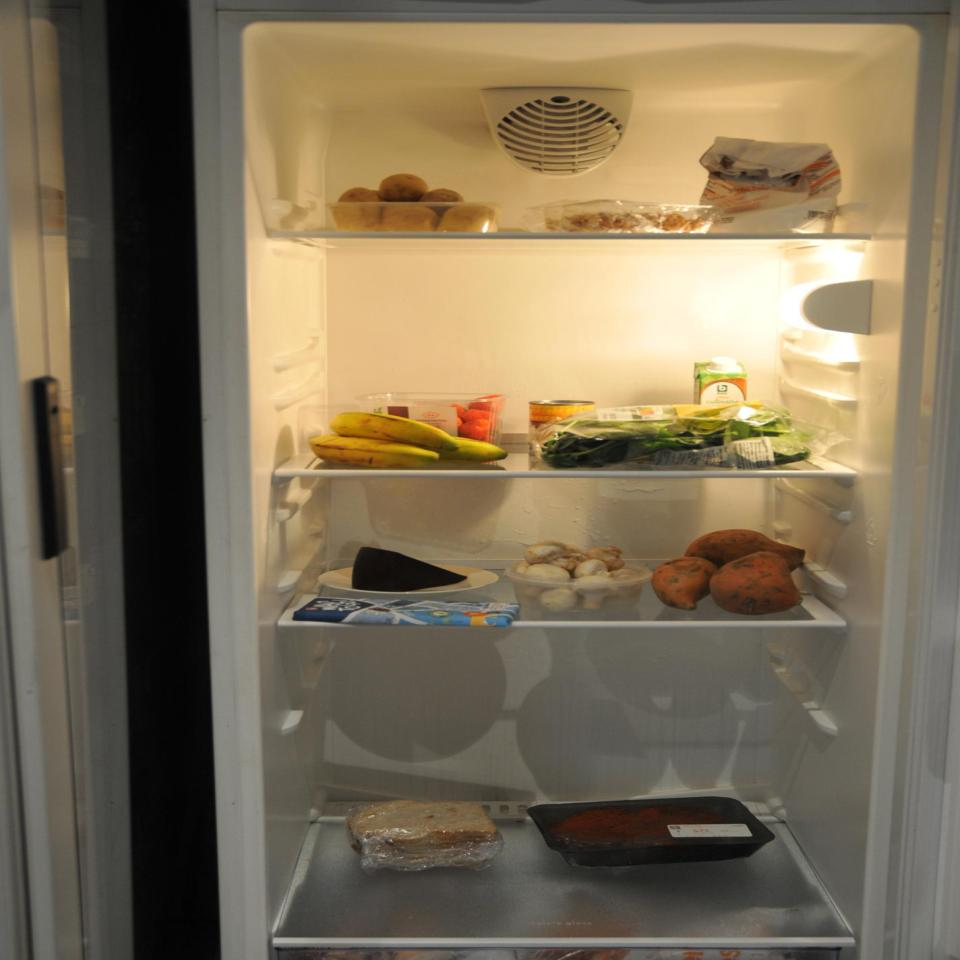Plátano: (306, 408, 510, 466)
Queso: (348, 544, 469, 593)
